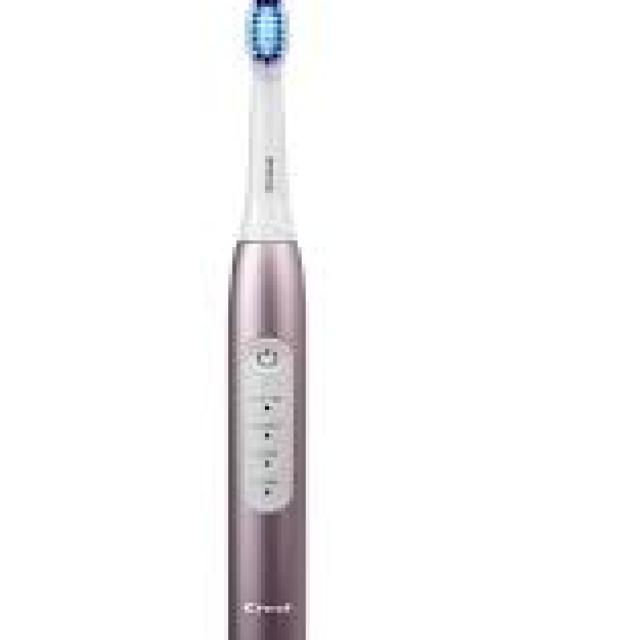organic: (209, 1, 343, 621)
